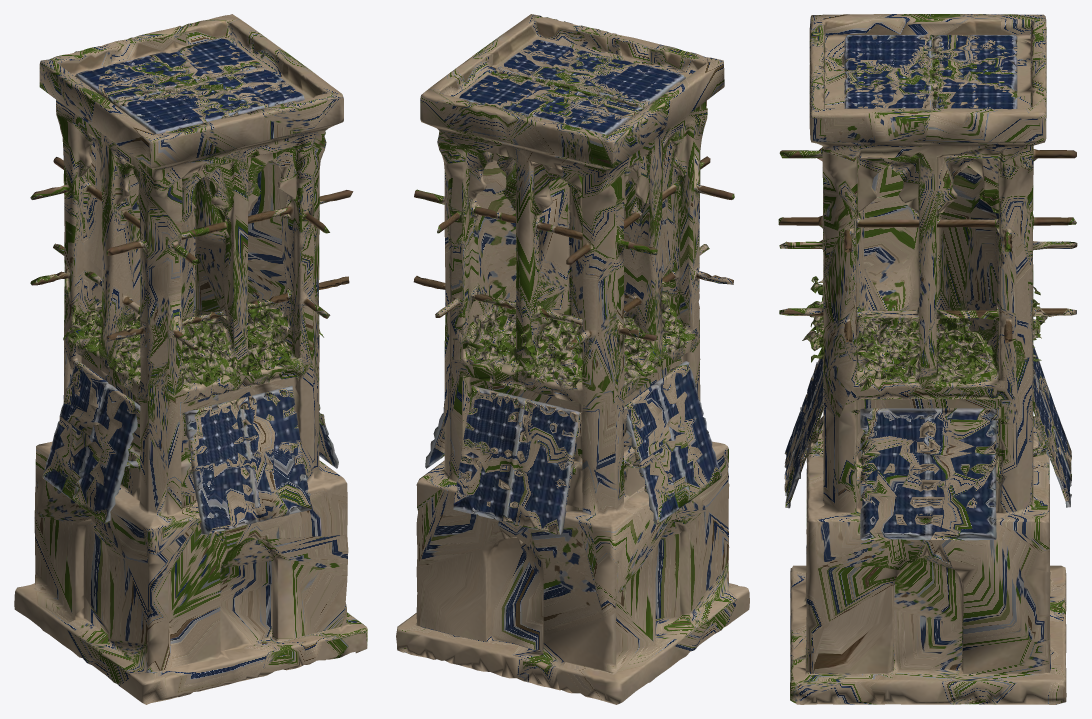
The model's file is windtower_lod1.glb.
3 renders of one model, left to right at view 1: azimuth 30°, elevation 25°; view 2: azimuth 150°, elevation 25°; view 3: azimuth 270°, elevation 25°, orthographic. The views are drawn at different scales.
Size of the model in its own units: 0.8826 by 1.9 by 0.8812.
1 material, 1 textured.
